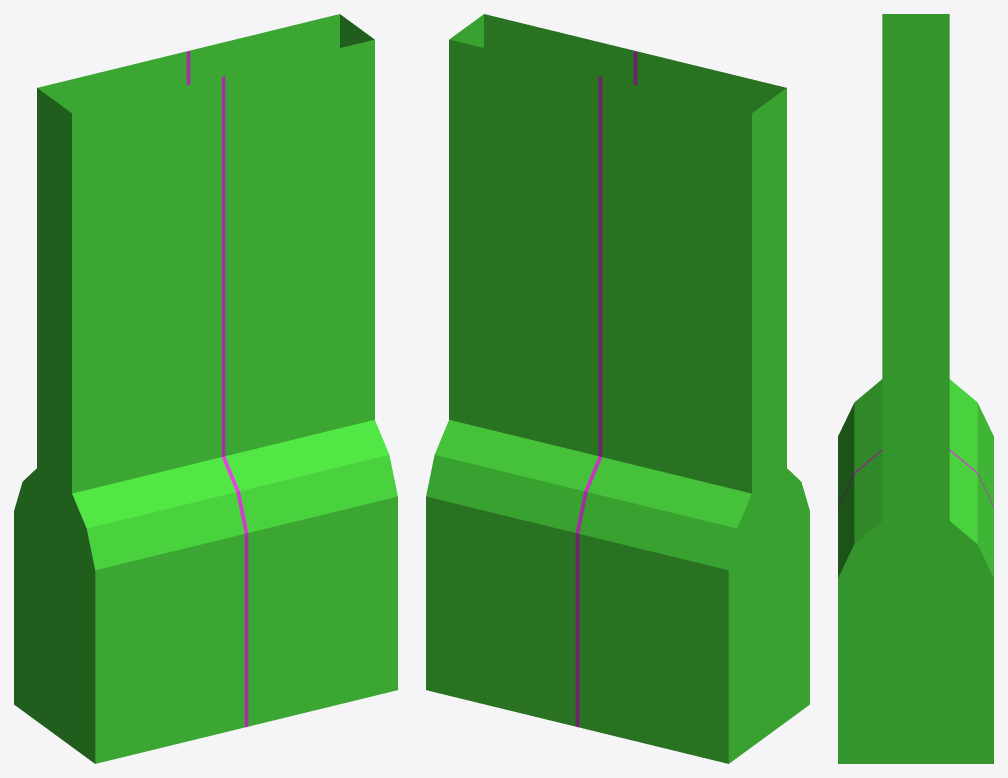
File: Wall_43_F_Straight.fbx
The picture shows the model from 3 angles, left to right: view 1: azimuth 30°, elevation 25°; view 2: azimuth 150°, elevation 25°; view 3: azimuth 270°, elevation 25°; orthographic projection. The views are drawn at different scales.
Visible parts, largest first — view 1: Wall_43_F_Straight; view 2: Wall_43_F_Straight; view 3: Wall_43_F_Straight.
Part boxes in pixels (x1,y1,x2,y2): Wall_43_F_Straight: (14,14,397,763); Wall_43_F_Straight: (426,14,809,763); Wall_43_F_Straight: (838,14,993,763).
Size of the model in its own units: 229 by 457 by 106.
